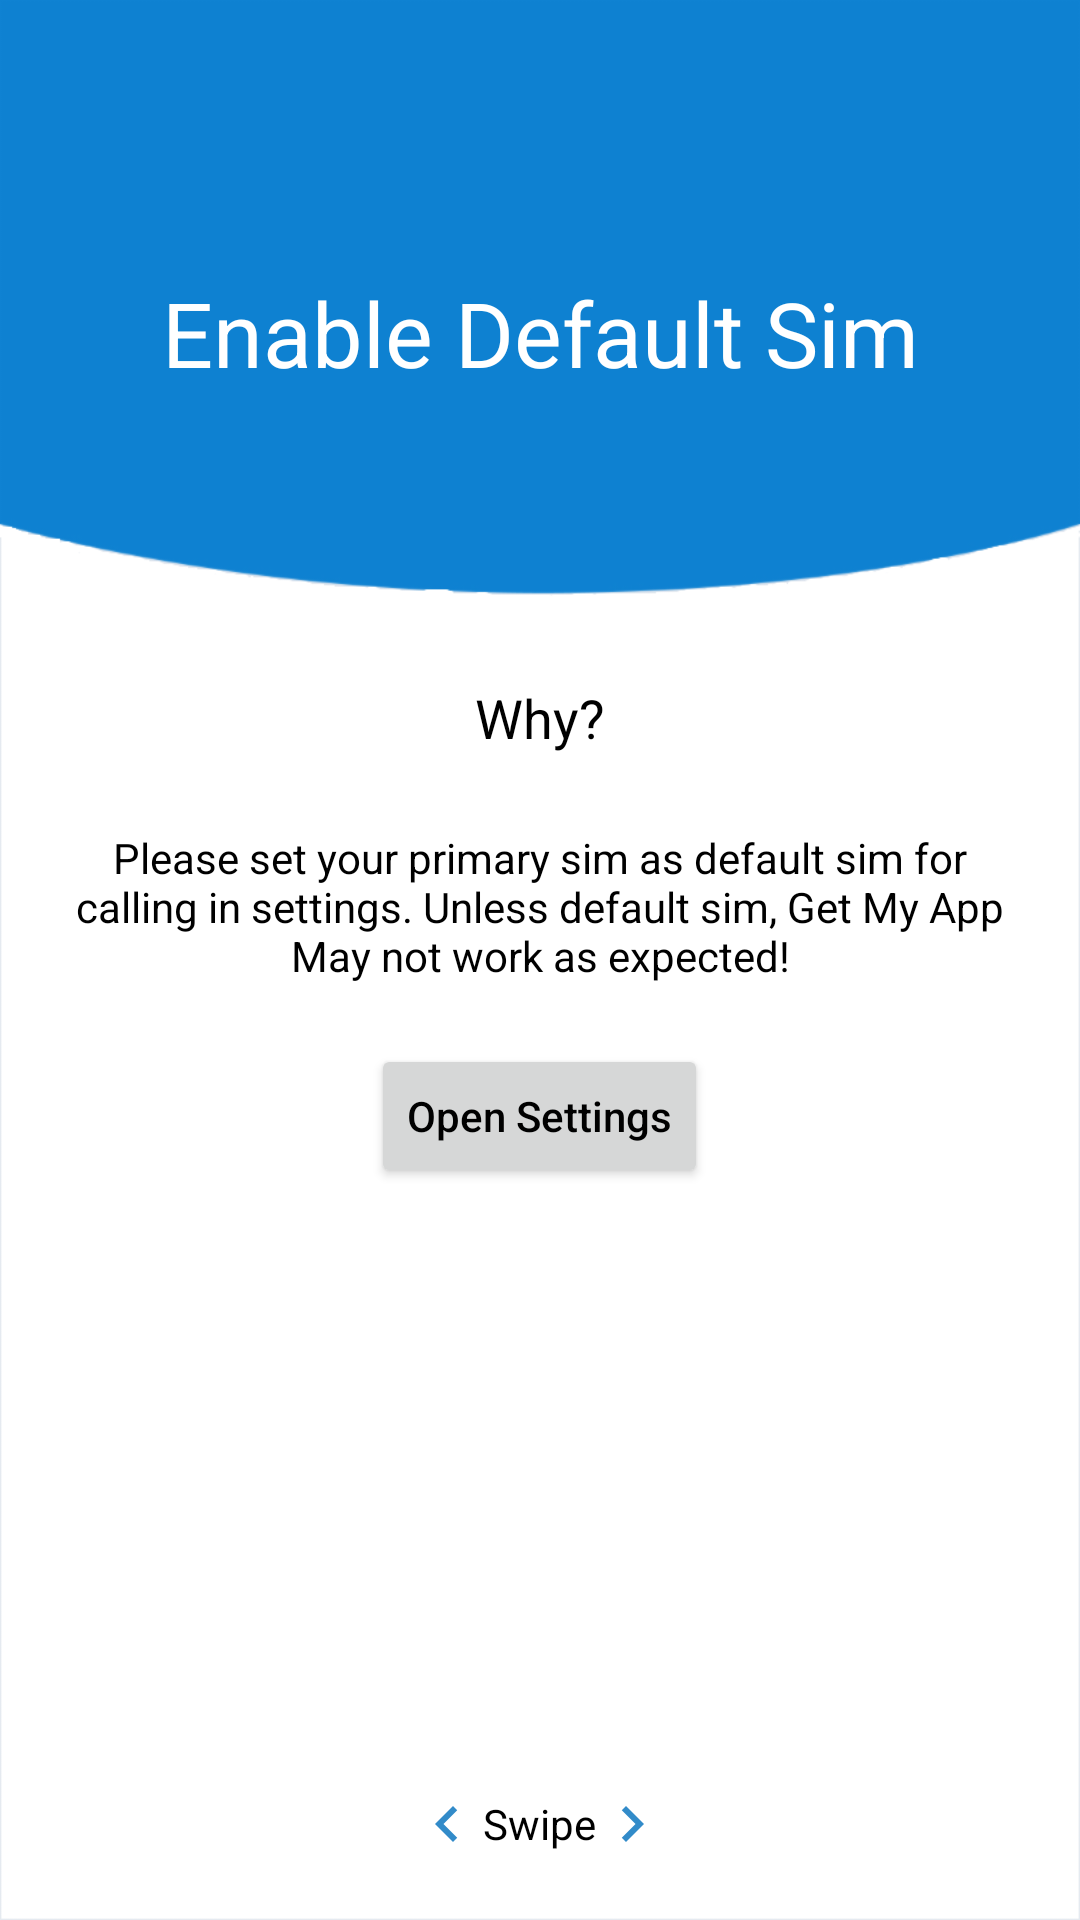

Named icons in this screenshot (1080px×1920px) and their bounding boxes, (x1, y1, x2, y2):
navigate: (622, 1806, 644, 1842)
navigate before: (435, 1806, 457, 1842)
